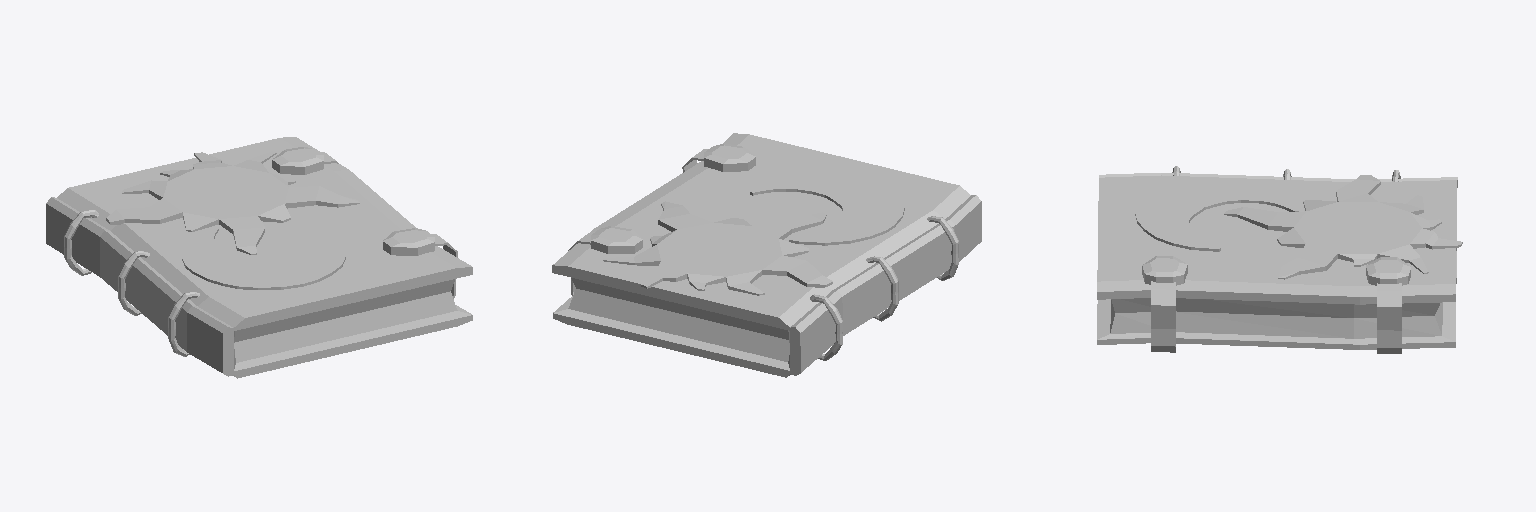
File: book.obj
3 views of the same model, side by side, from view 1: azimuth 30°, elevation 25°; view 2: azimuth 150°, elevation 25°; view 3: azimuth 270°, elevation 25° (orthographic).
Parts seen in each view (by area): view 1: book; view 2: book; view 3: book.
Part boxes in pixels (x1,y1,x2,y2): book: (46,137,472,378); book: (552,133,981,377); book: (1097,166,1462,353).
Bounding box in the file's own units: 1.42 × 0.3706 × 1.62.